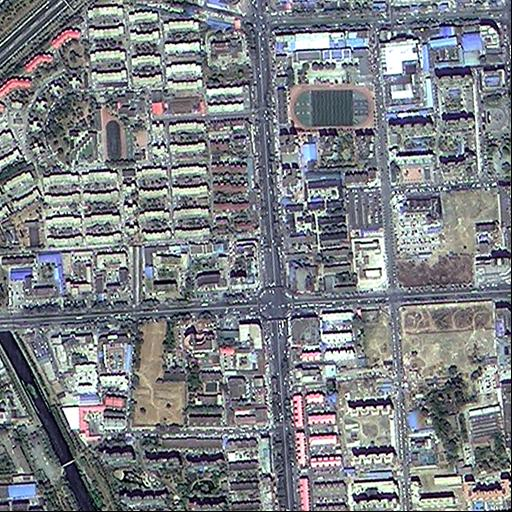school: (288, 45, 375, 131), (63, 104, 130, 169)
